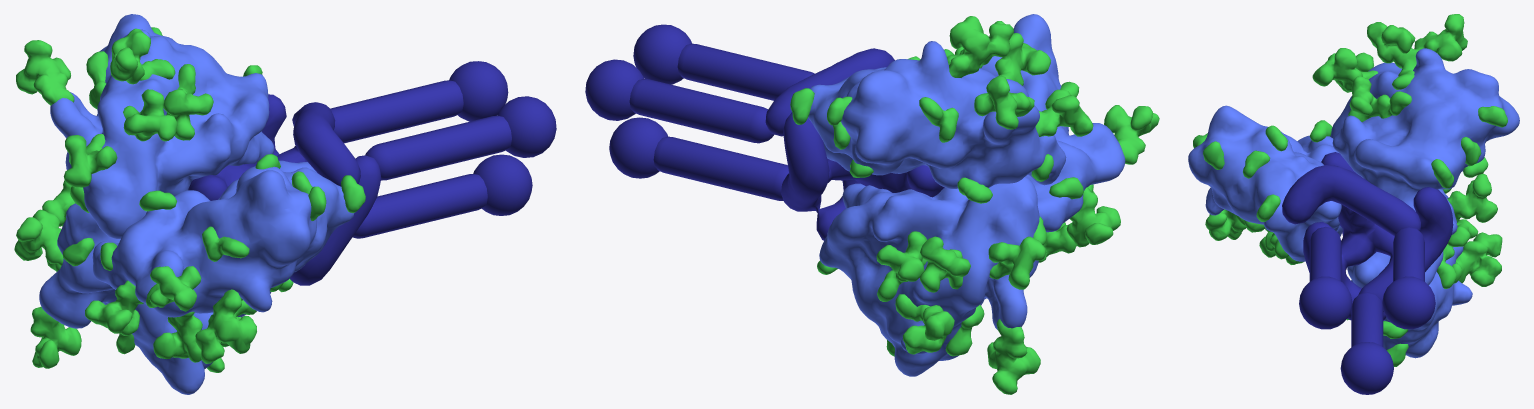
File: HIV1_ENV_4nco_0_1_1_high.dae
The picture shows the model from 3 angles, left to right: view 1: azimuth 30°, elevation 25°; view 2: azimuth 150°, elevation 25°; view 3: azimuth 270°, elevation 25°; orthographic projection. The views are drawn at different scales.
Visible parts, largest first — view 1: glyc_HIV1_ENV_4nco_ligand, gp120_HIV1_ENV_4nco_E, gp120_HIV1_ENV_4nco_A, gp41_HIV1_ENV_4nco_BEJ, gp41_4ncoTM_2 (×2), gp120_HIV1_ENV_4nco_I, gp41_4ncoTM_0 (×2), gp41_4ncoTM_1 (×2); view 2: glyc_HIV1_ENV_4nco_ligand, gp120_HIV1_ENV_4nco_I, gp120_HIV1_ENV_4nco_A, gp41_HIV1_ENV_4nco_BEJ, gp41_4ncoTM_0 (×2), gp41_4ncoTM_1 (×2), gp120_HIV1_ENV_4nco_E, gp41_4ncoTM_2 (×2); view 3: glyc_HIV1_ENV_4nco_ligand, gp120_HIV1_ENV_4nco_A, gp41_HIV1_ENV_4nco_BEJ, gp120_HIV1_ENV_4nco_E, gp41_4ncoTM_2 (×2), gp41_4ncoTM_1 (×2), gp41_4ncoTM_0 (×2), gp120_HIV1_ENV_4nco_I.
Boxes of the visible parts, left/top/right/bottom form: glyc_HIV1_ENV_4nco_ligand: left=14, top=27, right=365, bottom=372; gp120_HIV1_ENV_4nco_E: left=92, top=160, right=354, bottom=317; gp120_HIV1_ENV_4nco_A: left=50, top=14, right=274, bottom=238; gp41_HIV1_ENV_4nco_BEJ: left=188, top=94, right=381, bottom=285; gp41_4ncoTM_2 (×2): left=365, top=96, right=556, bottom=180; gp120_HIV1_ENV_4nco_I: left=39, top=203, right=271, bottom=394; gp41_4ncoTM_0 (×2): left=330, top=61, right=508, bottom=143; gp41_4ncoTM_1 (×2): left=352, top=154, right=532, bottom=238; glyc_HIV1_ENV_4nco_ligand: left=790, top=16, right=1159, bottom=394; gp120_HIV1_ENV_4nco_I: left=819, top=176, right=1039, bottom=376; gp120_HIV1_ENV_4nco_A: left=808, top=41, right=1066, bottom=188; gp41_HIV1_ENV_4nco_BEJ: left=765, top=48, right=944, bottom=240; gp41_4ncoTM_0 (×2): left=585, top=59, right=774, bottom=143; gp41_4ncoTM_1 (×2): left=609, top=117, right=788, bottom=200; gp120_HIV1_ENV_4nco_E: left=981, top=14, right=1125, bottom=232; gp41_4ncoTM_2 (×2): left=633, top=24, right=814, bottom=100; glyc_HIV1_ENV_4nco_ligand: left=1193, top=14, right=1507, bottom=366; gp120_HIV1_ENV_4nco_A: left=1330, top=48, right=1519, bottom=211; gp41_HIV1_ENV_4nco_BEJ: left=1282, top=152, right=1453, bottom=320; gp120_HIV1_ENV_4nco_E: left=1188, top=105, right=1342, bottom=261; gp41_4ncoTM_2 (×2): left=1299, top=226, right=1352, bottom=329; gp41_4ncoTM_1 (×2): left=1340, top=292, right=1393, bottom=394; gp41_4ncoTM_0 (×2): left=1382, top=227, right=1435, bottom=329; gp120_HIV1_ENV_4nco_I: left=1347, top=189, right=1472, bottom=358.
Bounding box in the file's own units: 176 × 129 × 124.
